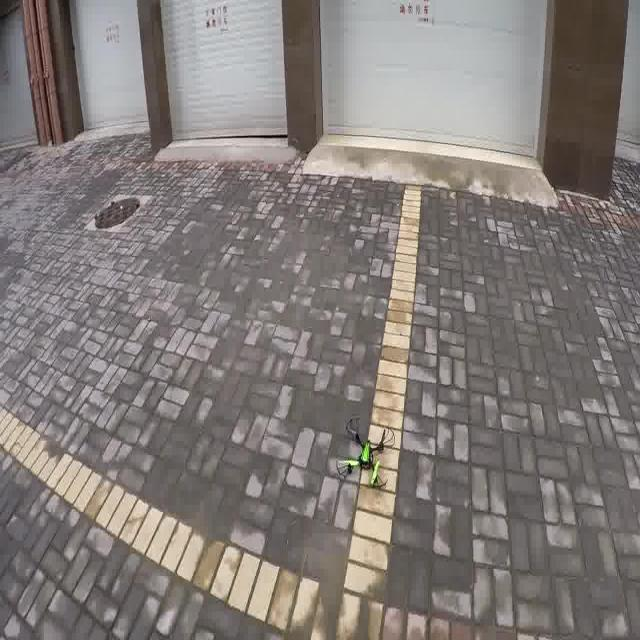drone: (321, 395, 416, 510)
